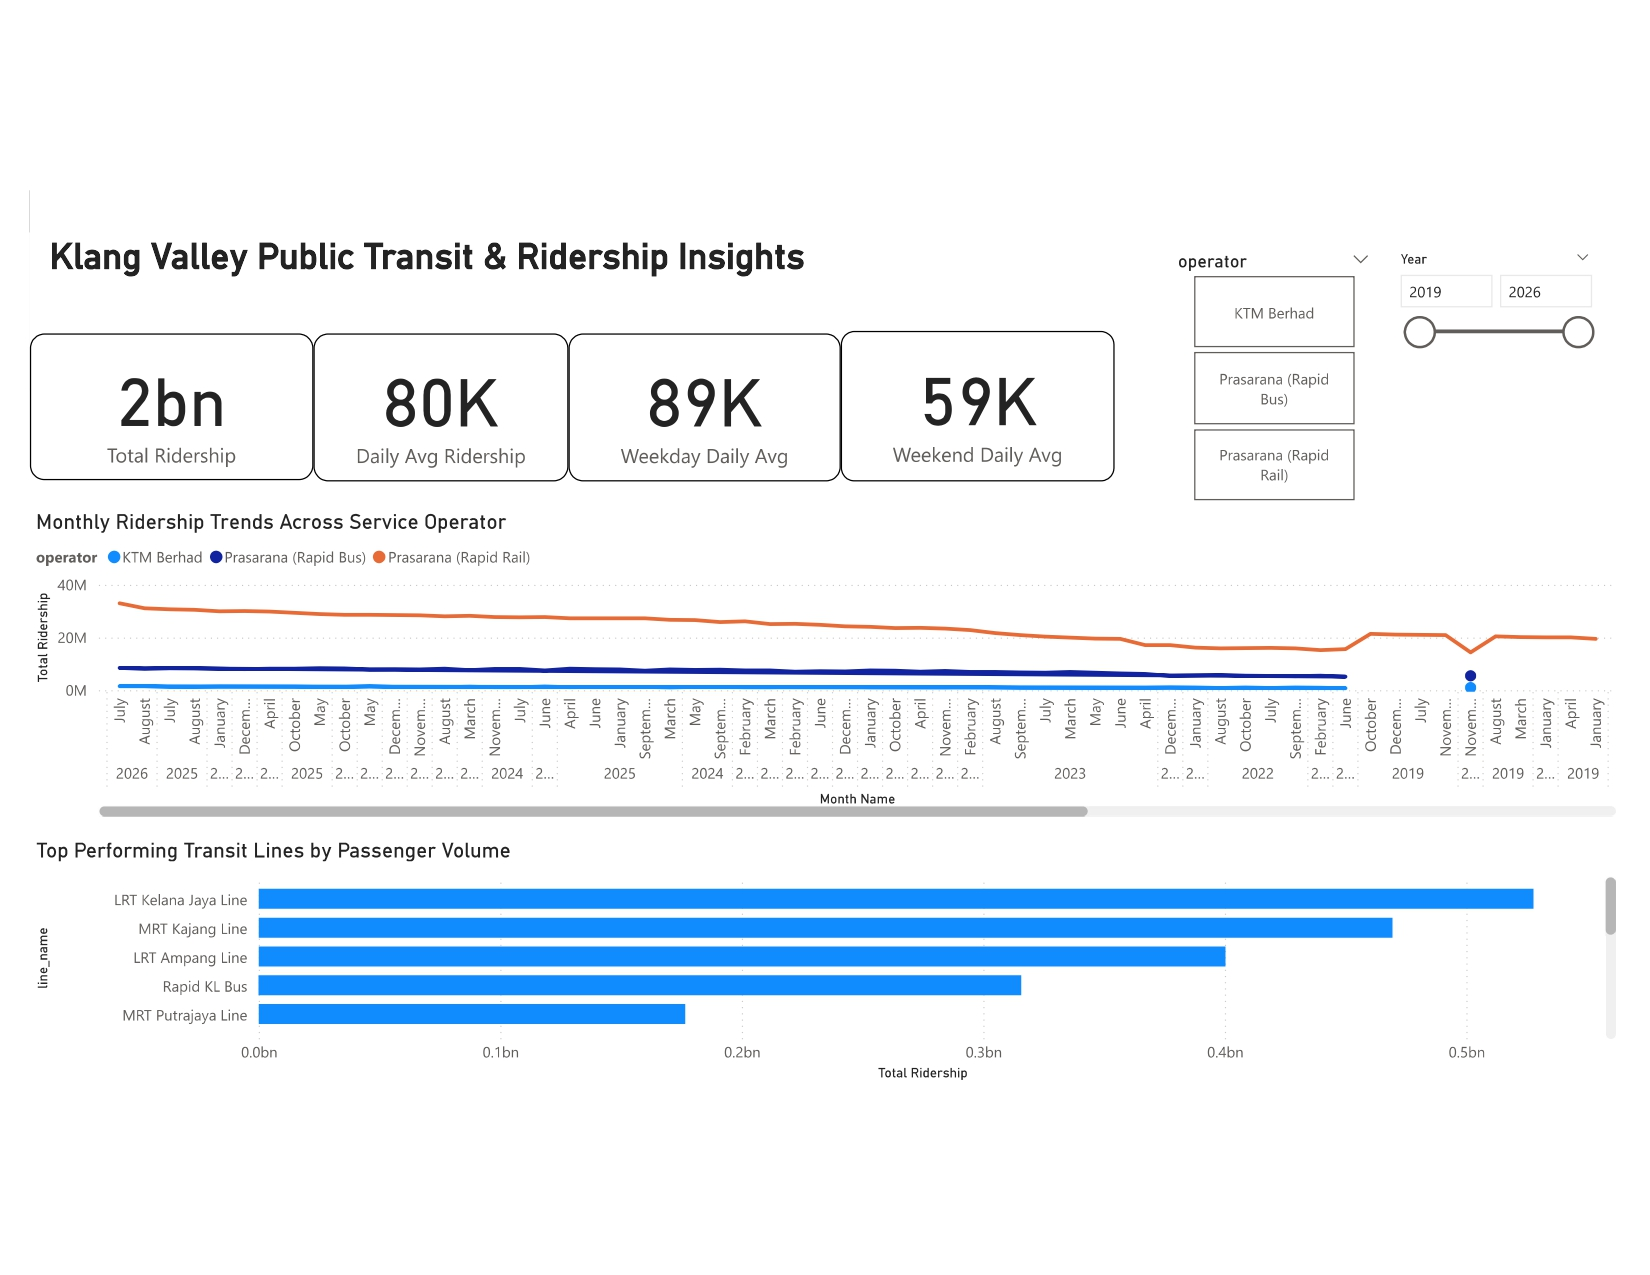

What the dashboard file says about the page in this screenshot:
{"tool":"powerbi","page":{"name":"Page 1","canvas":[1280,720],"ordinal":0},"visuals":[{"type":"card","fields":{"Values":["Table.Total Ridership"]},"box":[0,114.8,227.9,118],"z":0},{"type":"card","fields":{"Values":["Table.Daily Avg Ridership"]},"box":[227.9,114.8,204.9,119.7],"z":1000},{"type":"card","fields":{"Values":["Table.Weekend Daily Avg"]},"box":[652.5,113.1,219.7,121.3],"z":2000},{"type":"card","fields":{"Values":["Table.Weekday Daily Avg"]},"box":[432.8,114.8,219.7,119.7],"z":3000},{"type":"slicer","fields":{"Values":["ridership_headline.operator"]},"box":[909.8,44.3,178.7,211.5],"z":4000},{"type":"slicer","fields":{"Values":["ridership_headline.Year"]},"box":[1088.5,44.3,177,91.8],"z":5000},{"type":"lineChart","title":"Monthly Ridership Trends Across Service Operator","fields":{"Category":["ridership_headline.Year","ridership_headline.Month Name"],"Y":["Table.Total Ridership"],"Series":["ridership_headline.operator"]},"box":[0,255.7,1280.3,252.5],"z":6000},{"type":"clusteredBarChart","title":"Top Performing Transit Lines by Passenger Volume ","fields":{"Category":["ridership_headline.line_name"],"Y":["Table.Total Ridership"]},"box":[0,519.7,1280.3,200],"z":7000},{"type":"textbox","box":[11.5,31.1,791.8,59],"z":8000}]}

Visuals, with their boxes on the page's 1280x720 design canvas (x1, y1, x2, y2). These are canvas units, not pixel positions in the 1650x1275 screenshot, which may show the page scaled, cropped or inside an application window:
card - Table.Total Ridership: (0,115,228,233)
card - Table.Daily Avg Ridership: (228,115,433,234)
card - Table.Weekend Daily Avg: (652,113,872,234)
card - Table.Weekday Daily Avg: (433,115,652,234)
slicer - ridership_headline.operator: (910,44,1088,256)
slicer - ridership_headline.Year: (1088,44,1266,136)
"Monthly Ridership Trends Across Service Operator" lineChart: (0,256,1280,508)
"Top Performing Transit Lines by Passenger Volume " clusteredBarChart: (0,520,1280,720)
textbox: (12,31,803,90)
